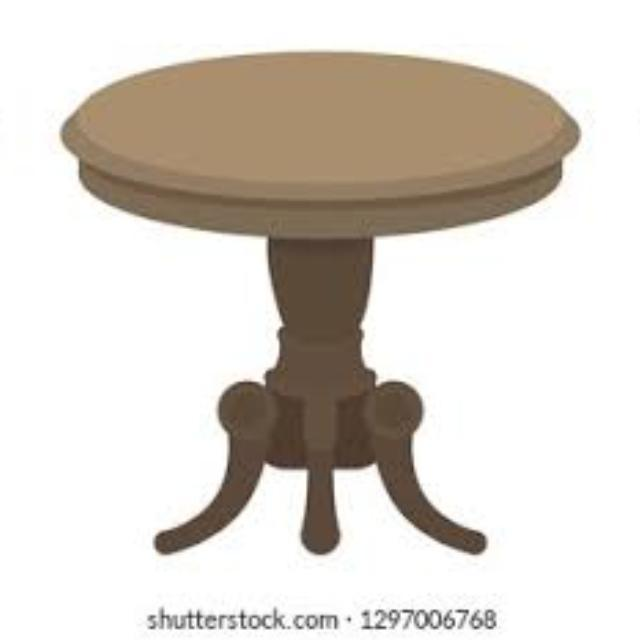obstacle: (41, 19, 609, 566), (624, 19, 640, 566), (0, 19, 5, 566)
